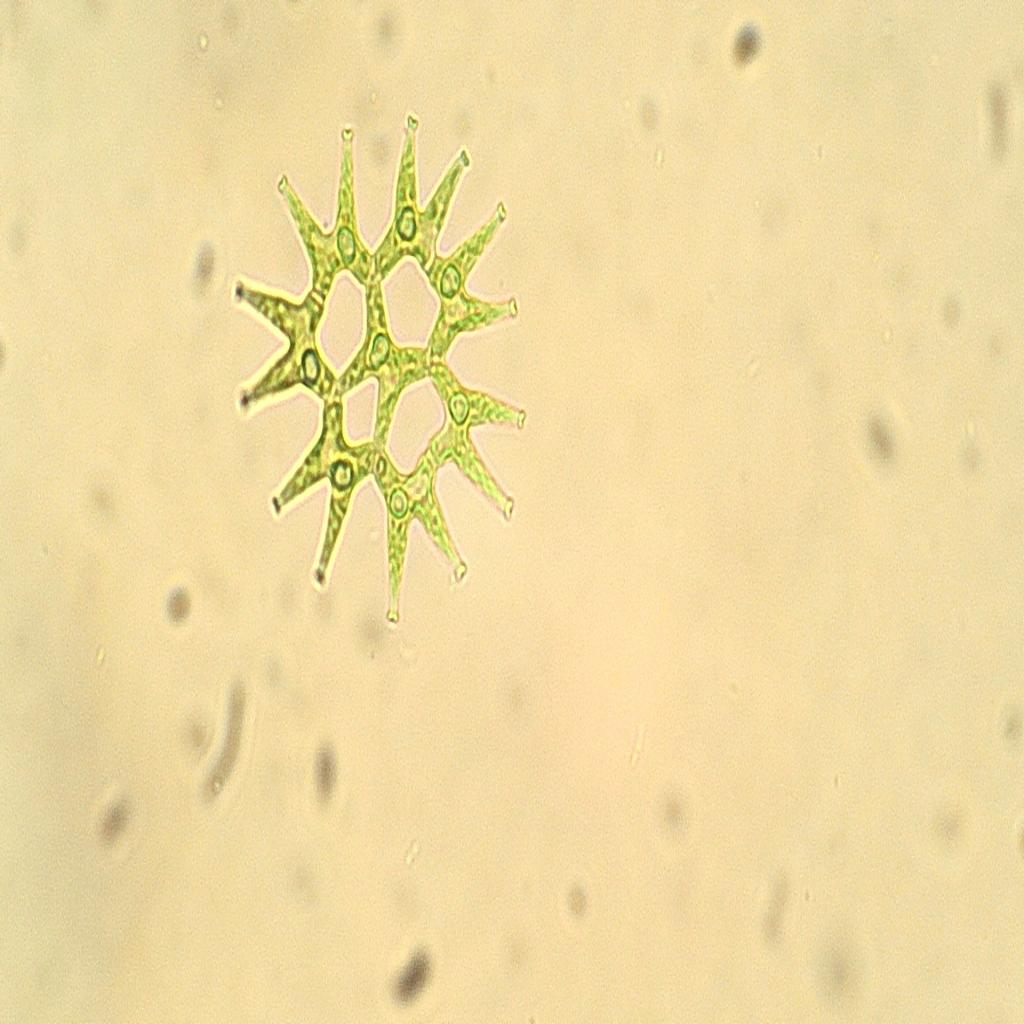Pediastrum_CTH: (221, 99, 535, 651)
